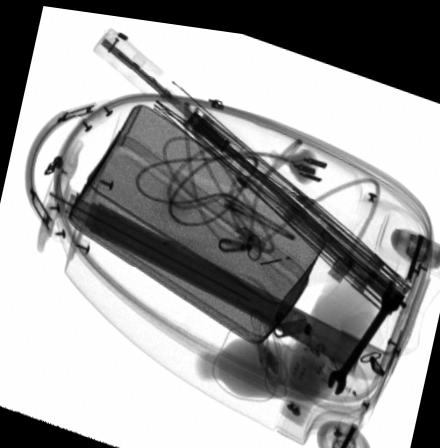Wrench: (327, 275, 401, 385)
